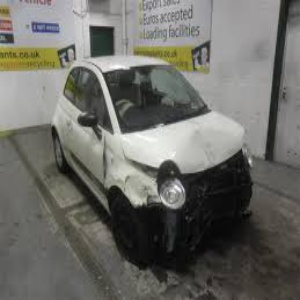bonnet: (142, 121, 248, 174)
bumper: (184, 191, 259, 253)
